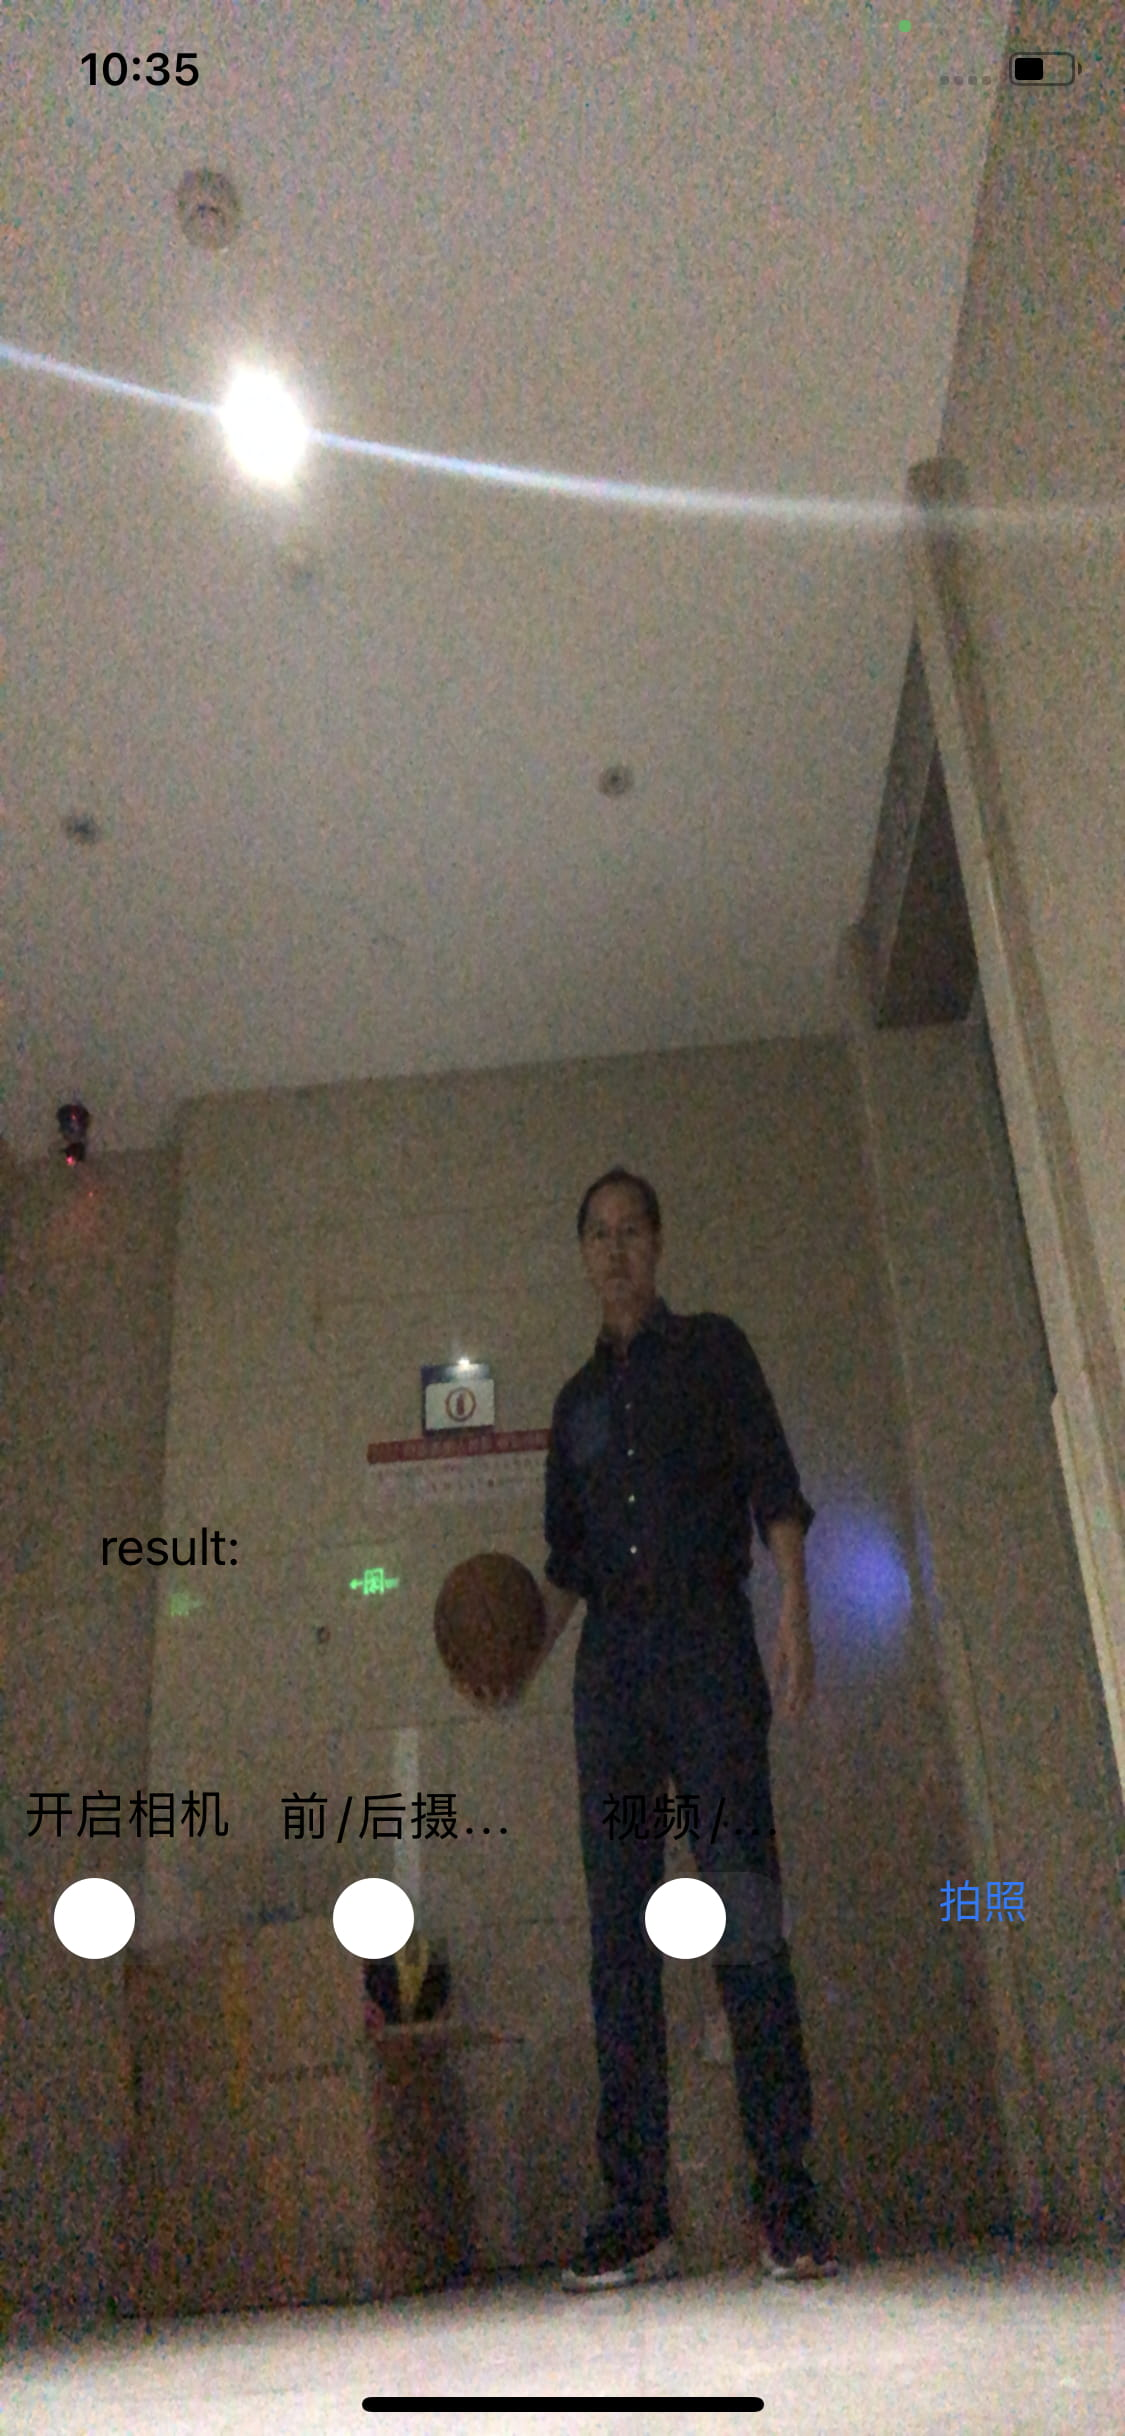ball: (435, 1554, 552, 1696)
